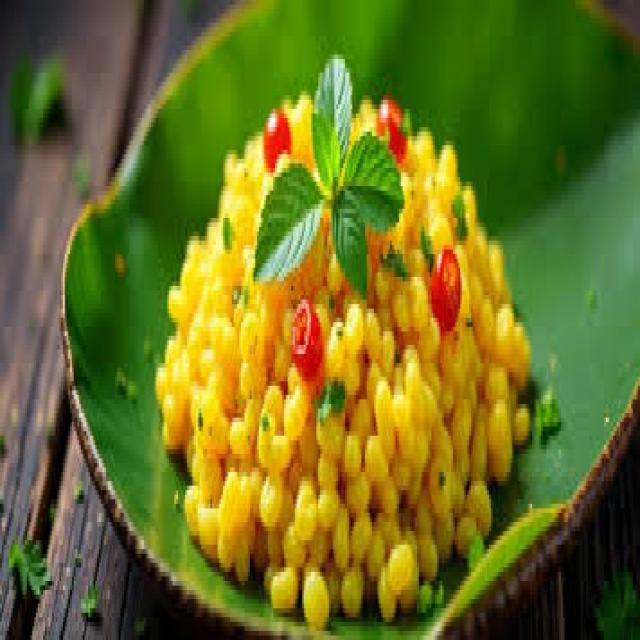UPMA: (151, 59, 556, 622)
